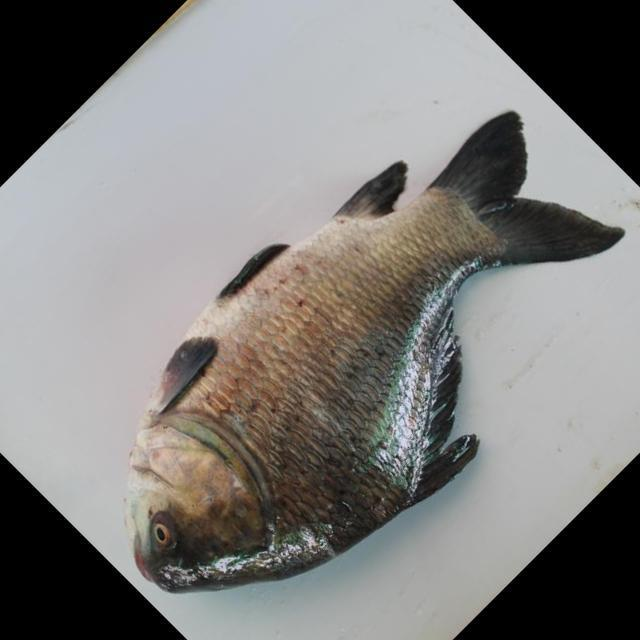Catla: (108, 110, 627, 596)
